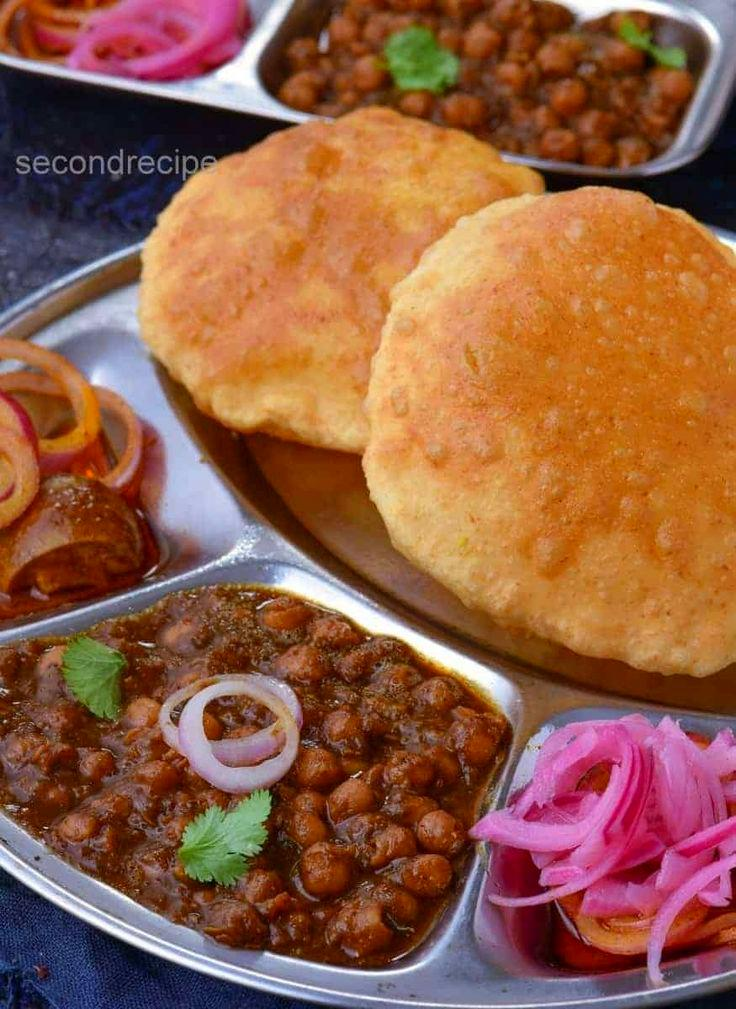chole: (13, 623, 468, 914), (275, 11, 687, 146)
puri: (145, 123, 736, 543)
salad: (540, 706, 736, 989), (0, 331, 130, 573)
